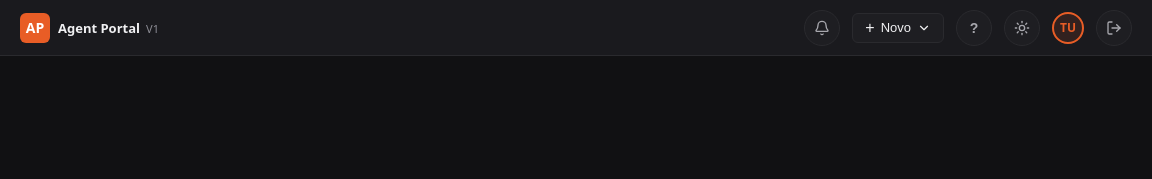
it: AppTopbar (Task 5) › tem o botão '+ Novo' que abre um menu com Agente, Pipeline e Base de conhecimento
expect the text "Agente" is not shown: met
expect the text "Pipeline" is not shown: met
Note: Abre o menu.
What coordinates should you click on to do the following:
click the button "+ Novo"
I would click on:
 (898, 28)
Its box is [852,12,944,42].
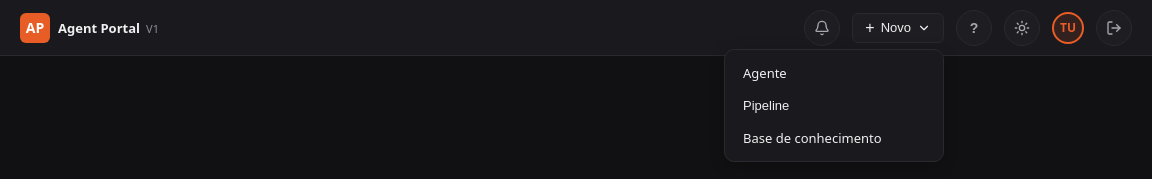
expect the menu item "Pipeline" is shown: met, box [731,90,937,120]
